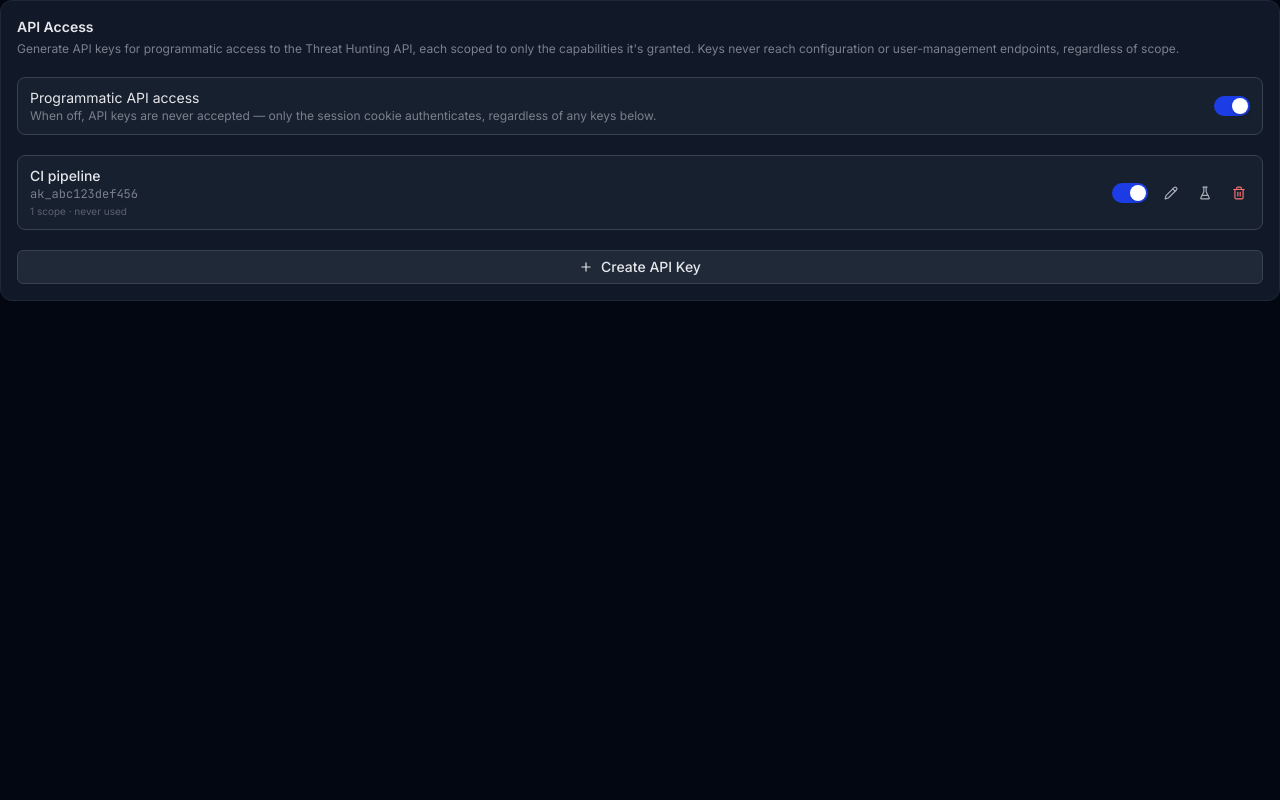
Test: ApiAccessTab › opening delete confirmation closes an open scope editor, and vice versa
This screenshot has width=1280, height=800.
Expected: the text "CI pipeline" is shown, [30, 167, 101, 184]
Click the button titled "Edit scopes" at (1171, 192), box [1160, 182, 1182, 204]
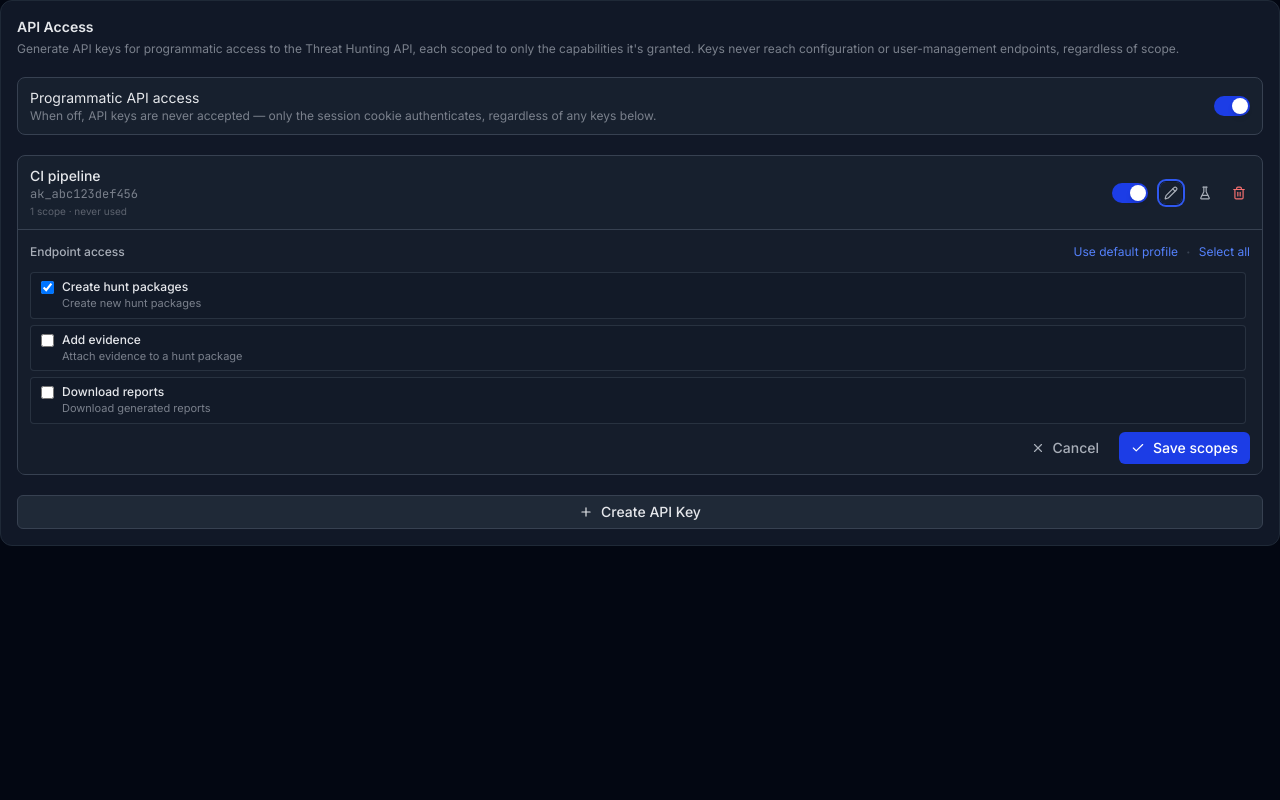
Expected: the button "Save scopes" is shown, [1119, 432, 1250, 464]
Click the button titled "Delete key" at (1239, 192), box [1228, 182, 1250, 204]
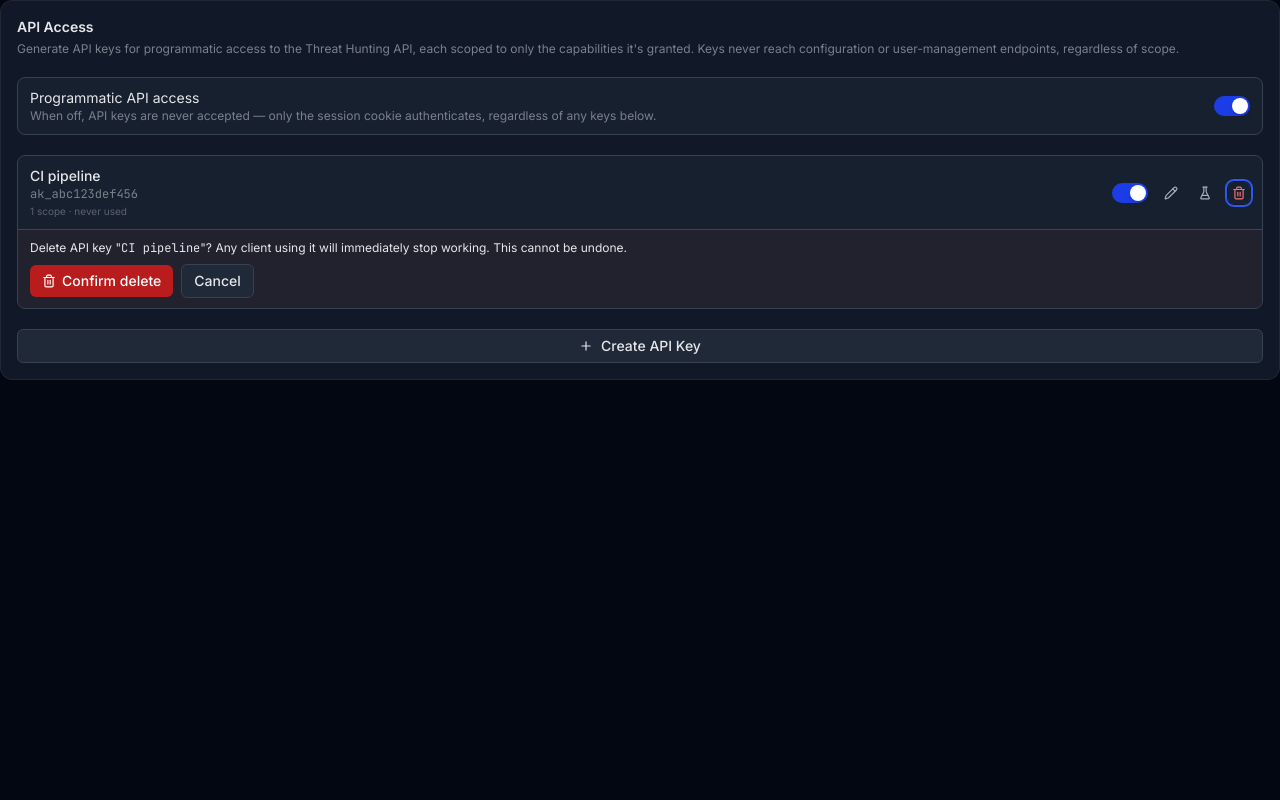
Expected: the button "Save scopes" is gone
Expected: the dialog is shown, [18, 229, 1262, 308]
